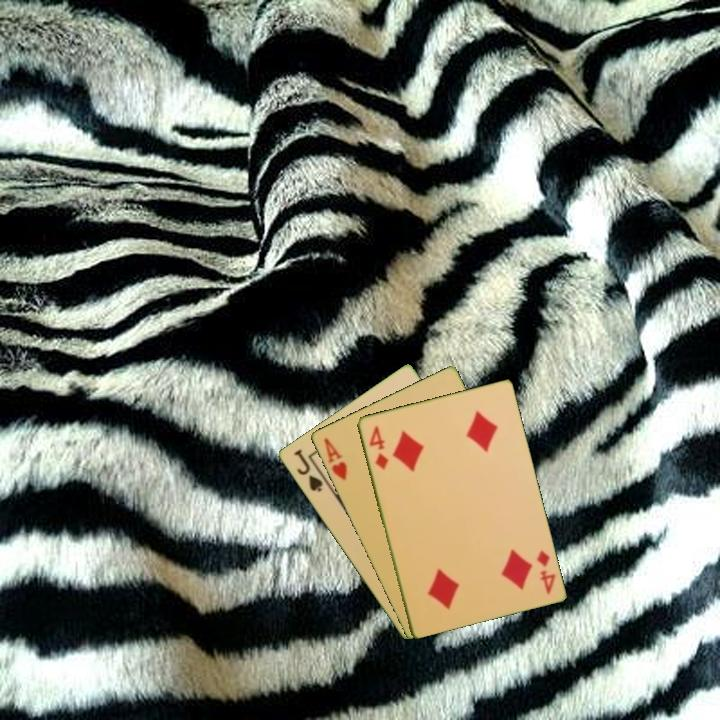4d: (365, 422, 391, 473), (533, 546, 558, 597)
Ah: (320, 434, 350, 483)
Js: (290, 445, 325, 495)
